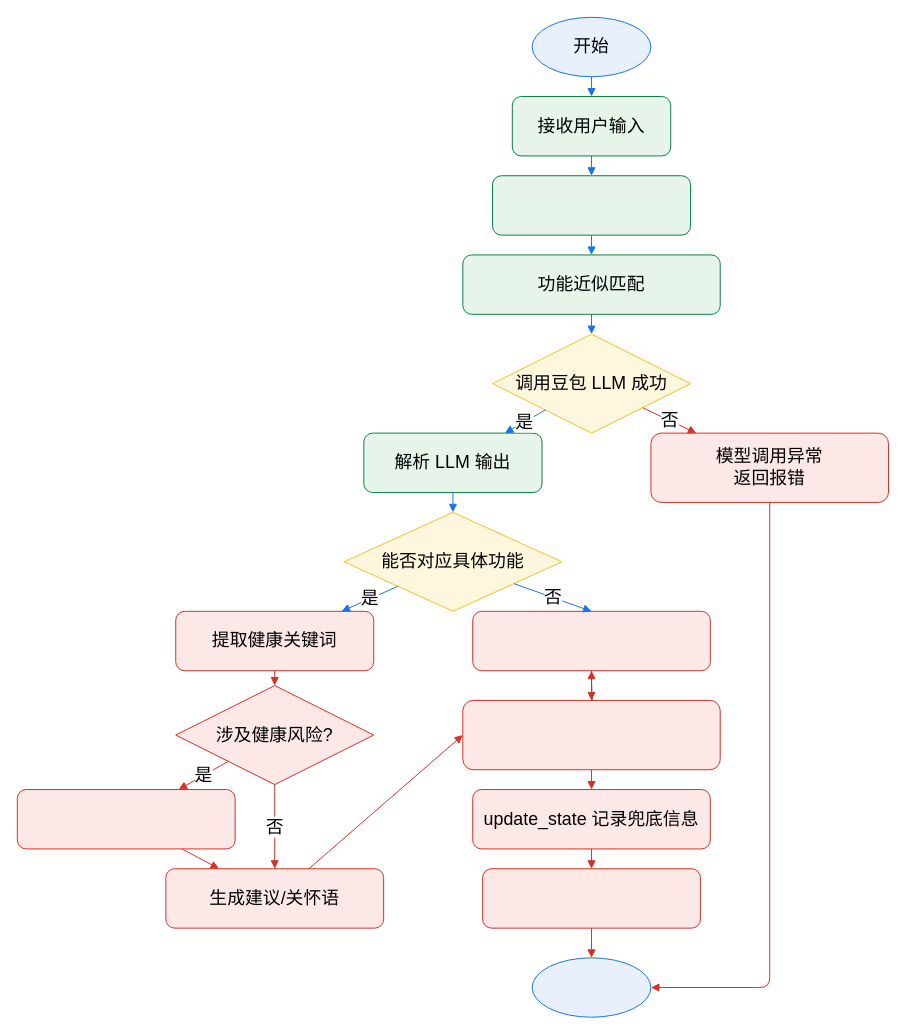
This 906x1035 diagram has some shape labels left out. Each missing label, with the centre of its shape:
"加载对话历史" goes at pixel 591 205.
"填充默认安全提示" goes at pixel 125 819.
"整合大模型建议 + 安全提示词" goes at pixel 591 734.
"结束" goes at pixel 591 987.
"请求用户再次描述需求" goes at pixel 591 640.
"返回多轮回答标记 （前端判别用）" goes at pixel 591 898.
